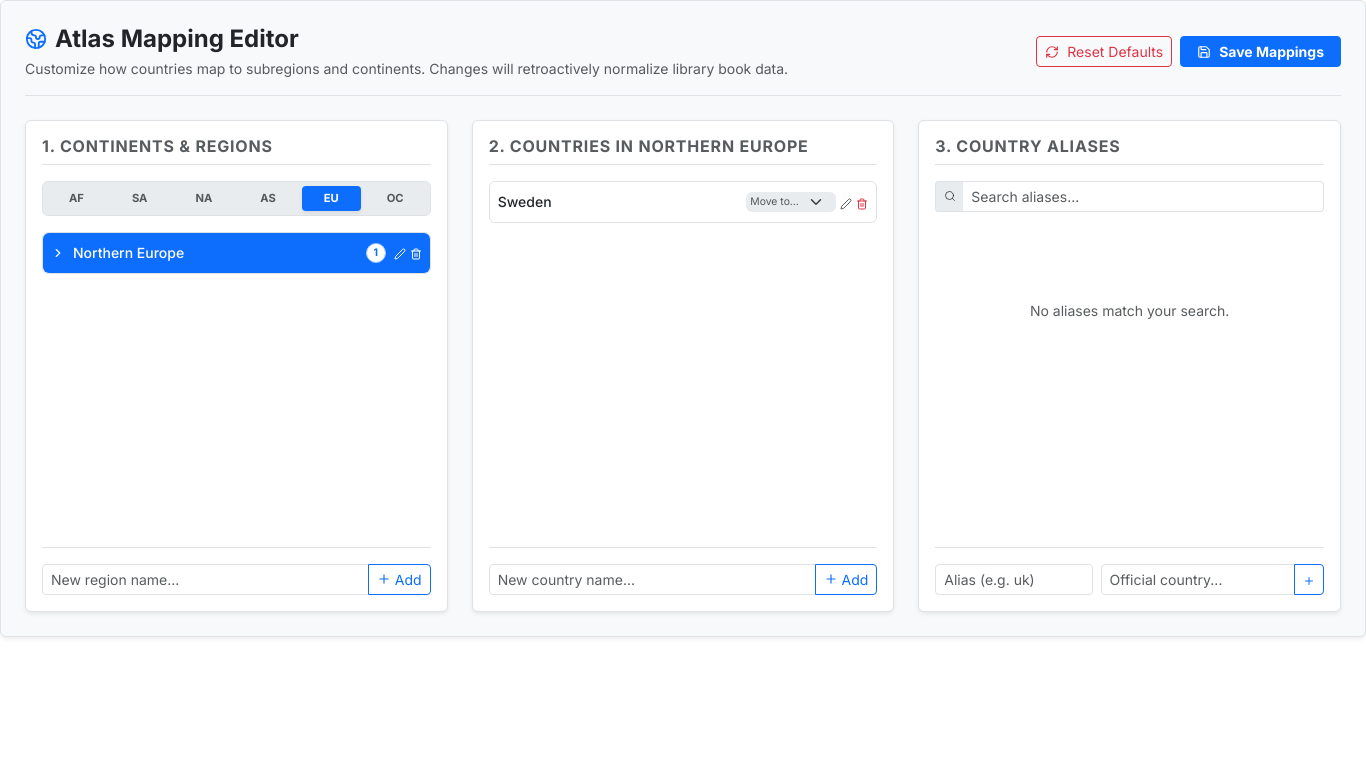
Scenario: MappingsEditor Component › moves country between different continents
Note: Select Japan in AS
Click the button "AS" at [268, 198], box x1=238 y1=186 x2=298 y2=211
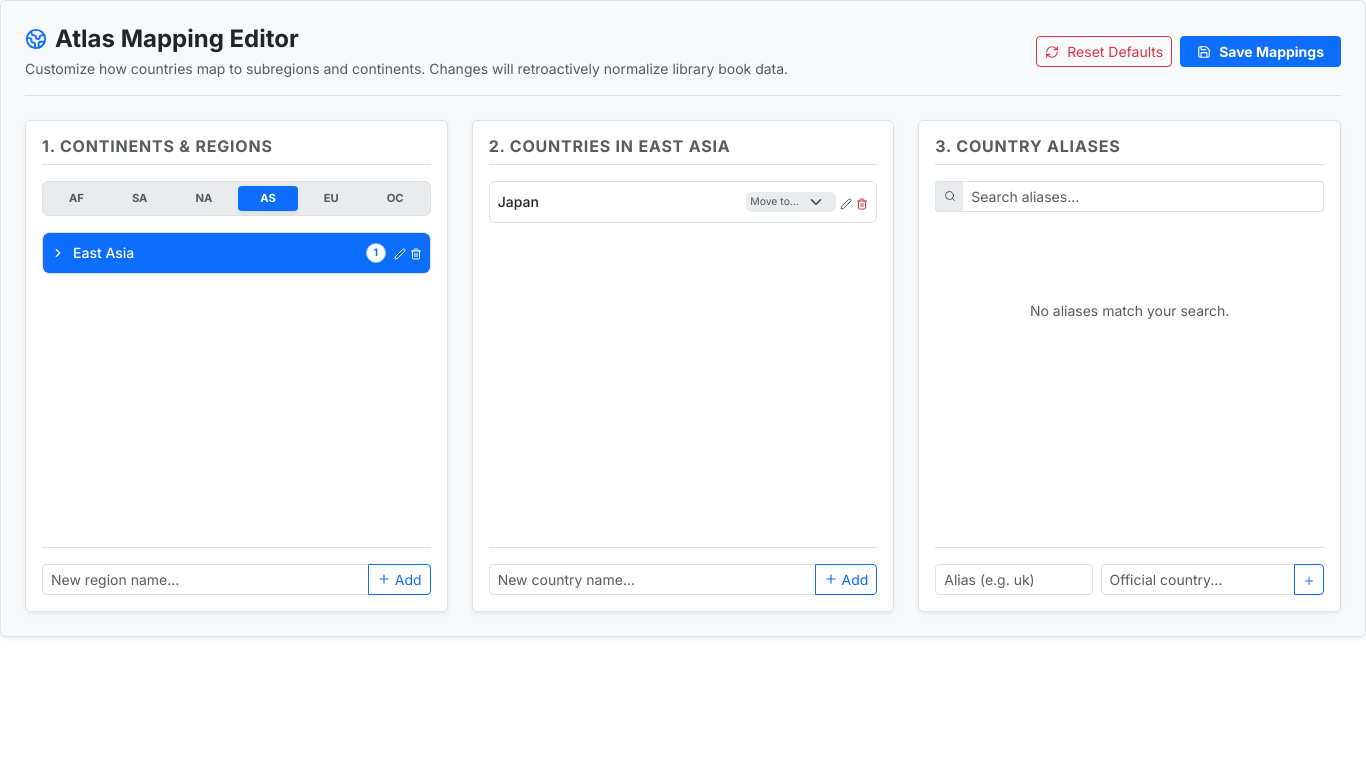
Expected: the text "Japan" is shown, x1=498 y1=192 x2=539 y2=212
Note: Move Japan to Northern Europe (EU)
Select "Northern Europe (Europe)" in the dropdown showing "Move to..." at [791, 202], box x1=746 y1=192 x2=836 y2=212
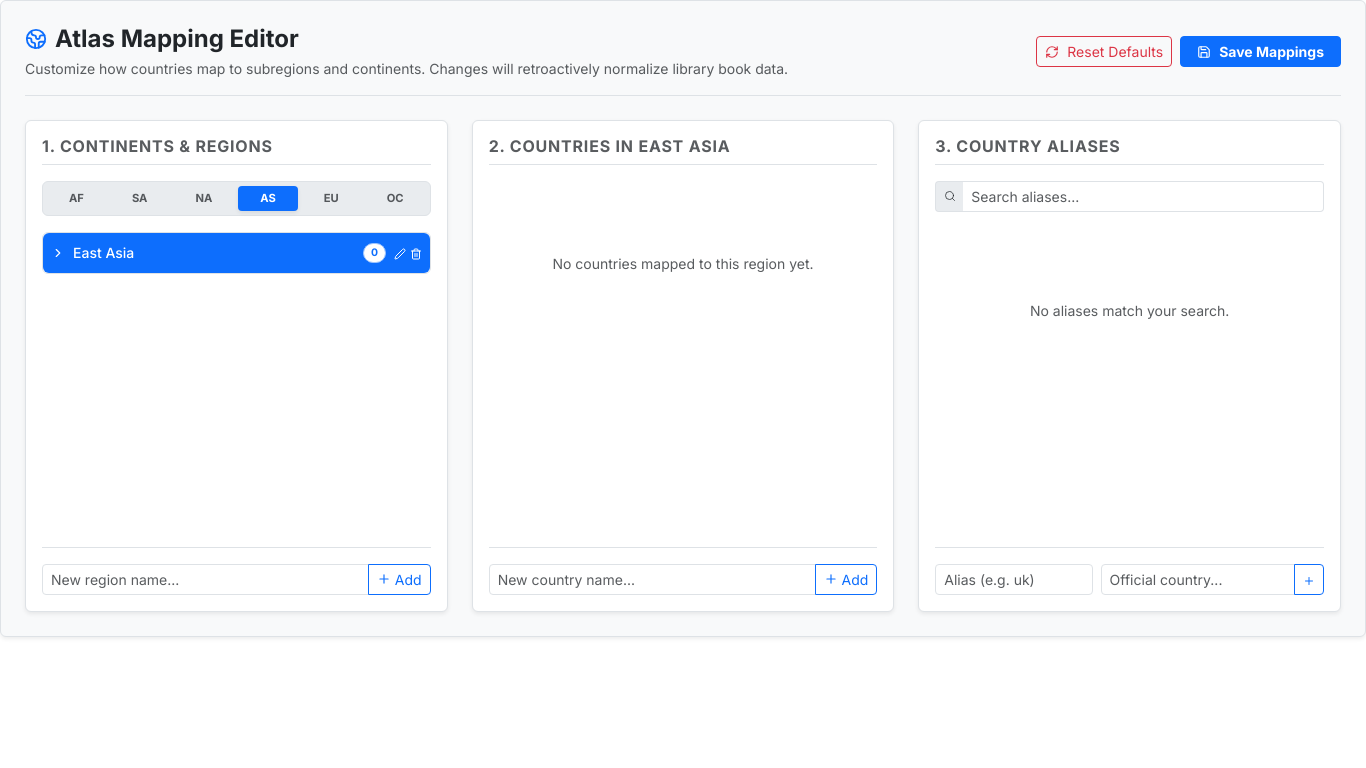
Expected: the text "Japan" is gone
Note: Check EU view
Click the button "EU" at [331, 198], box x1=302 y1=186 x2=361 y2=211
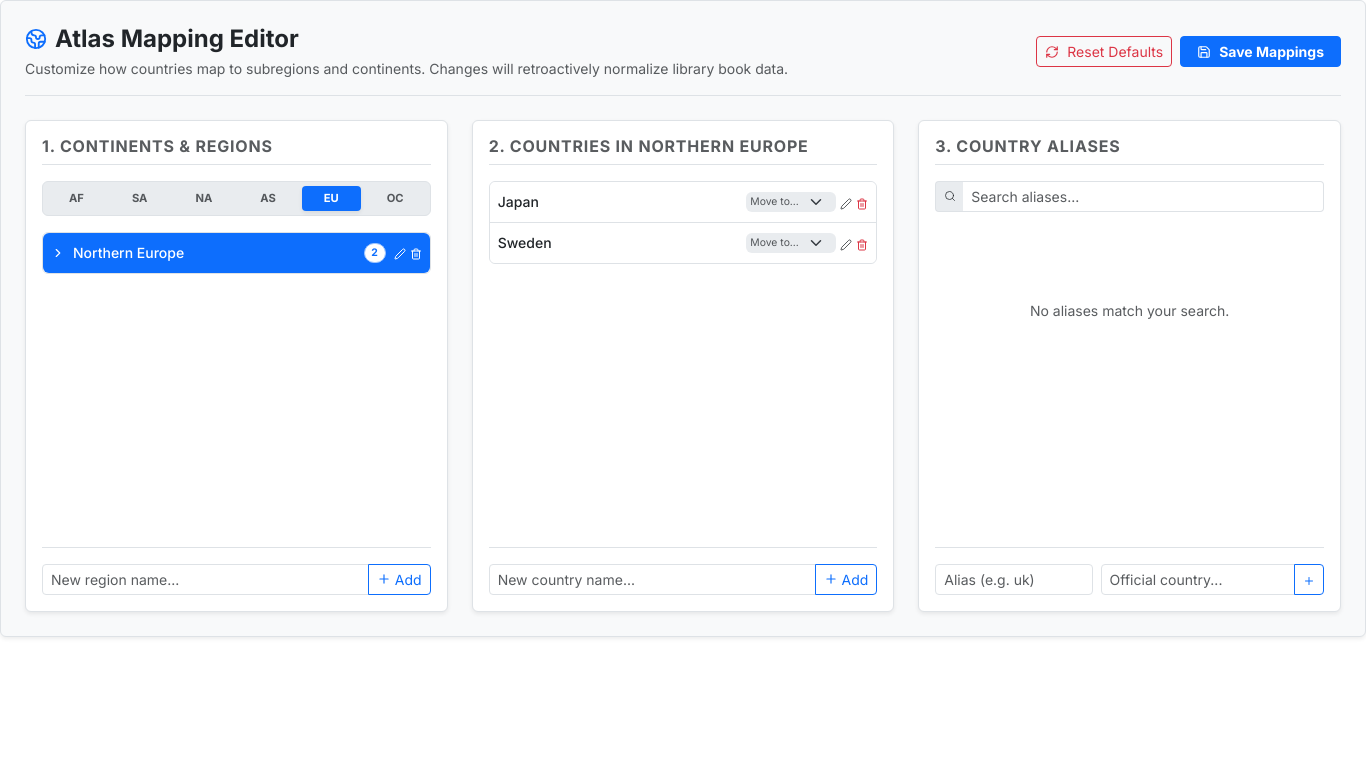
Expected: the text "Japan" is shown, x1=498 y1=192 x2=539 y2=212
